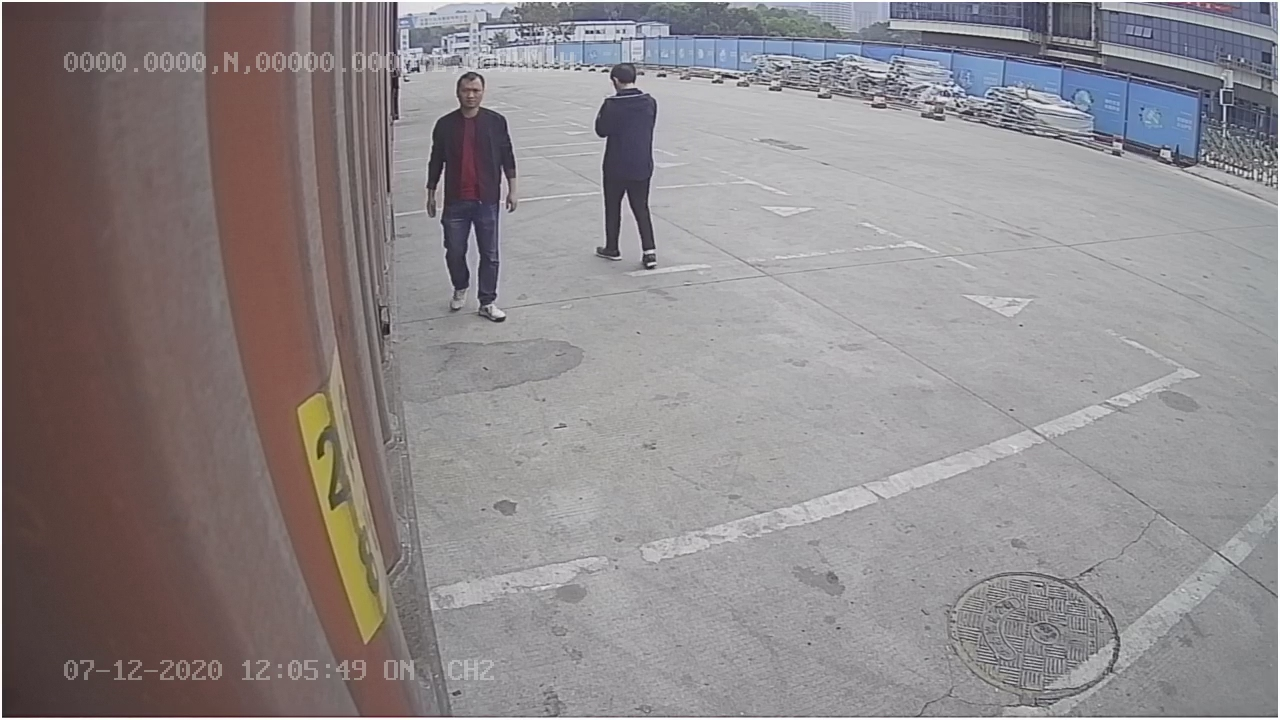person: (423, 67, 521, 322), (586, 57, 661, 270)
